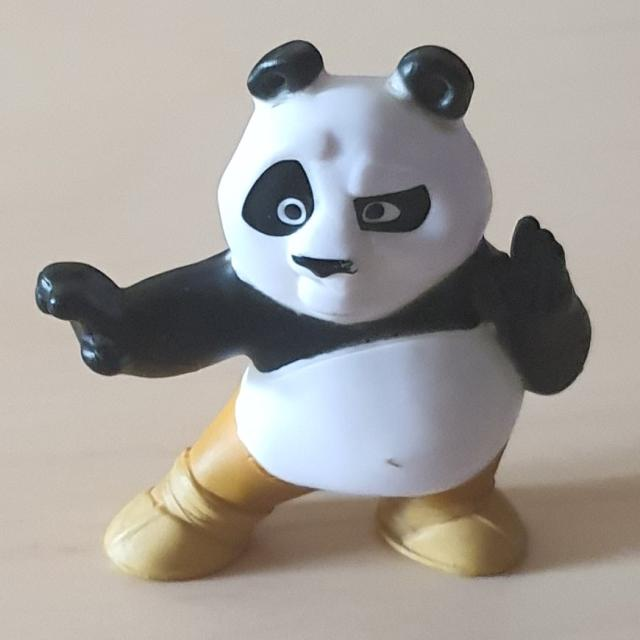Panda: (34, 38, 592, 582)
